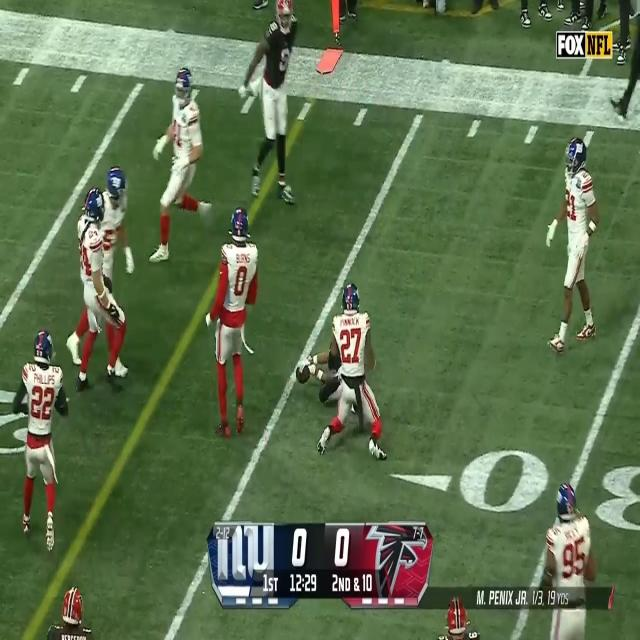Ball: (296, 365, 310, 384)
